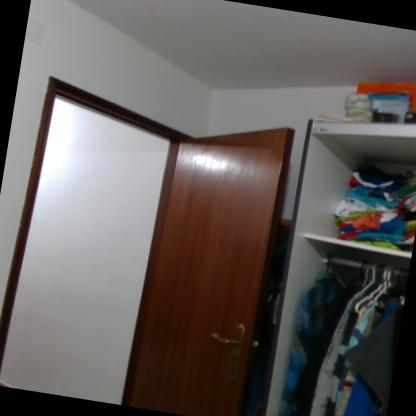open: (0, 63, 305, 415)
